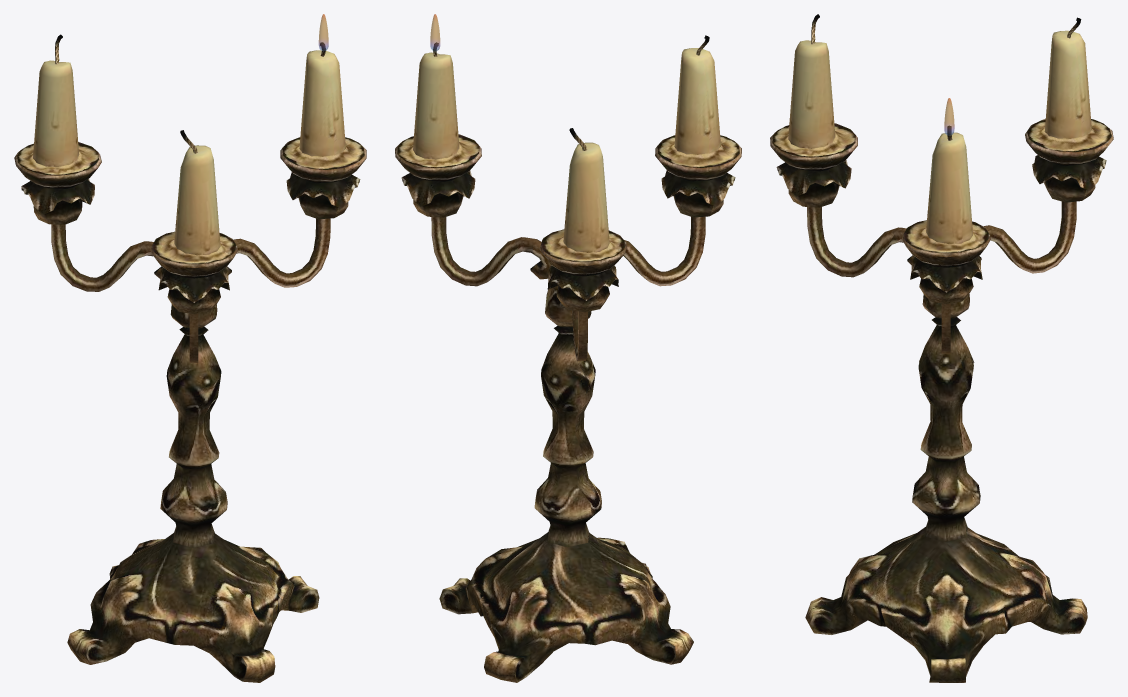
File: item_candle3_middle.fbx
3 views of the same model, side by side, from view 1: azimuth 30°, elevation 25°; view 2: azimuth 150°, elevation 25°; view 3: azimuth 270°, elevation 25° (orthographic).
Visible parts, largest first — view 1: item_candle3_middle; view 2: item_candle3_middle; view 3: item_candle3_middle.
Part boxes in pixels (box(x1,y1,x2,y2)): item_candle3_middle: box(14, 34, 366, 682); item_candle3_middle: box(395, 35, 741, 682); item_candle3_middle: box(770, 14, 1113, 682).
Bounding box in the file's own units: 13.55 × 26.61 × 13.84.
2 materials, 2 textured.
